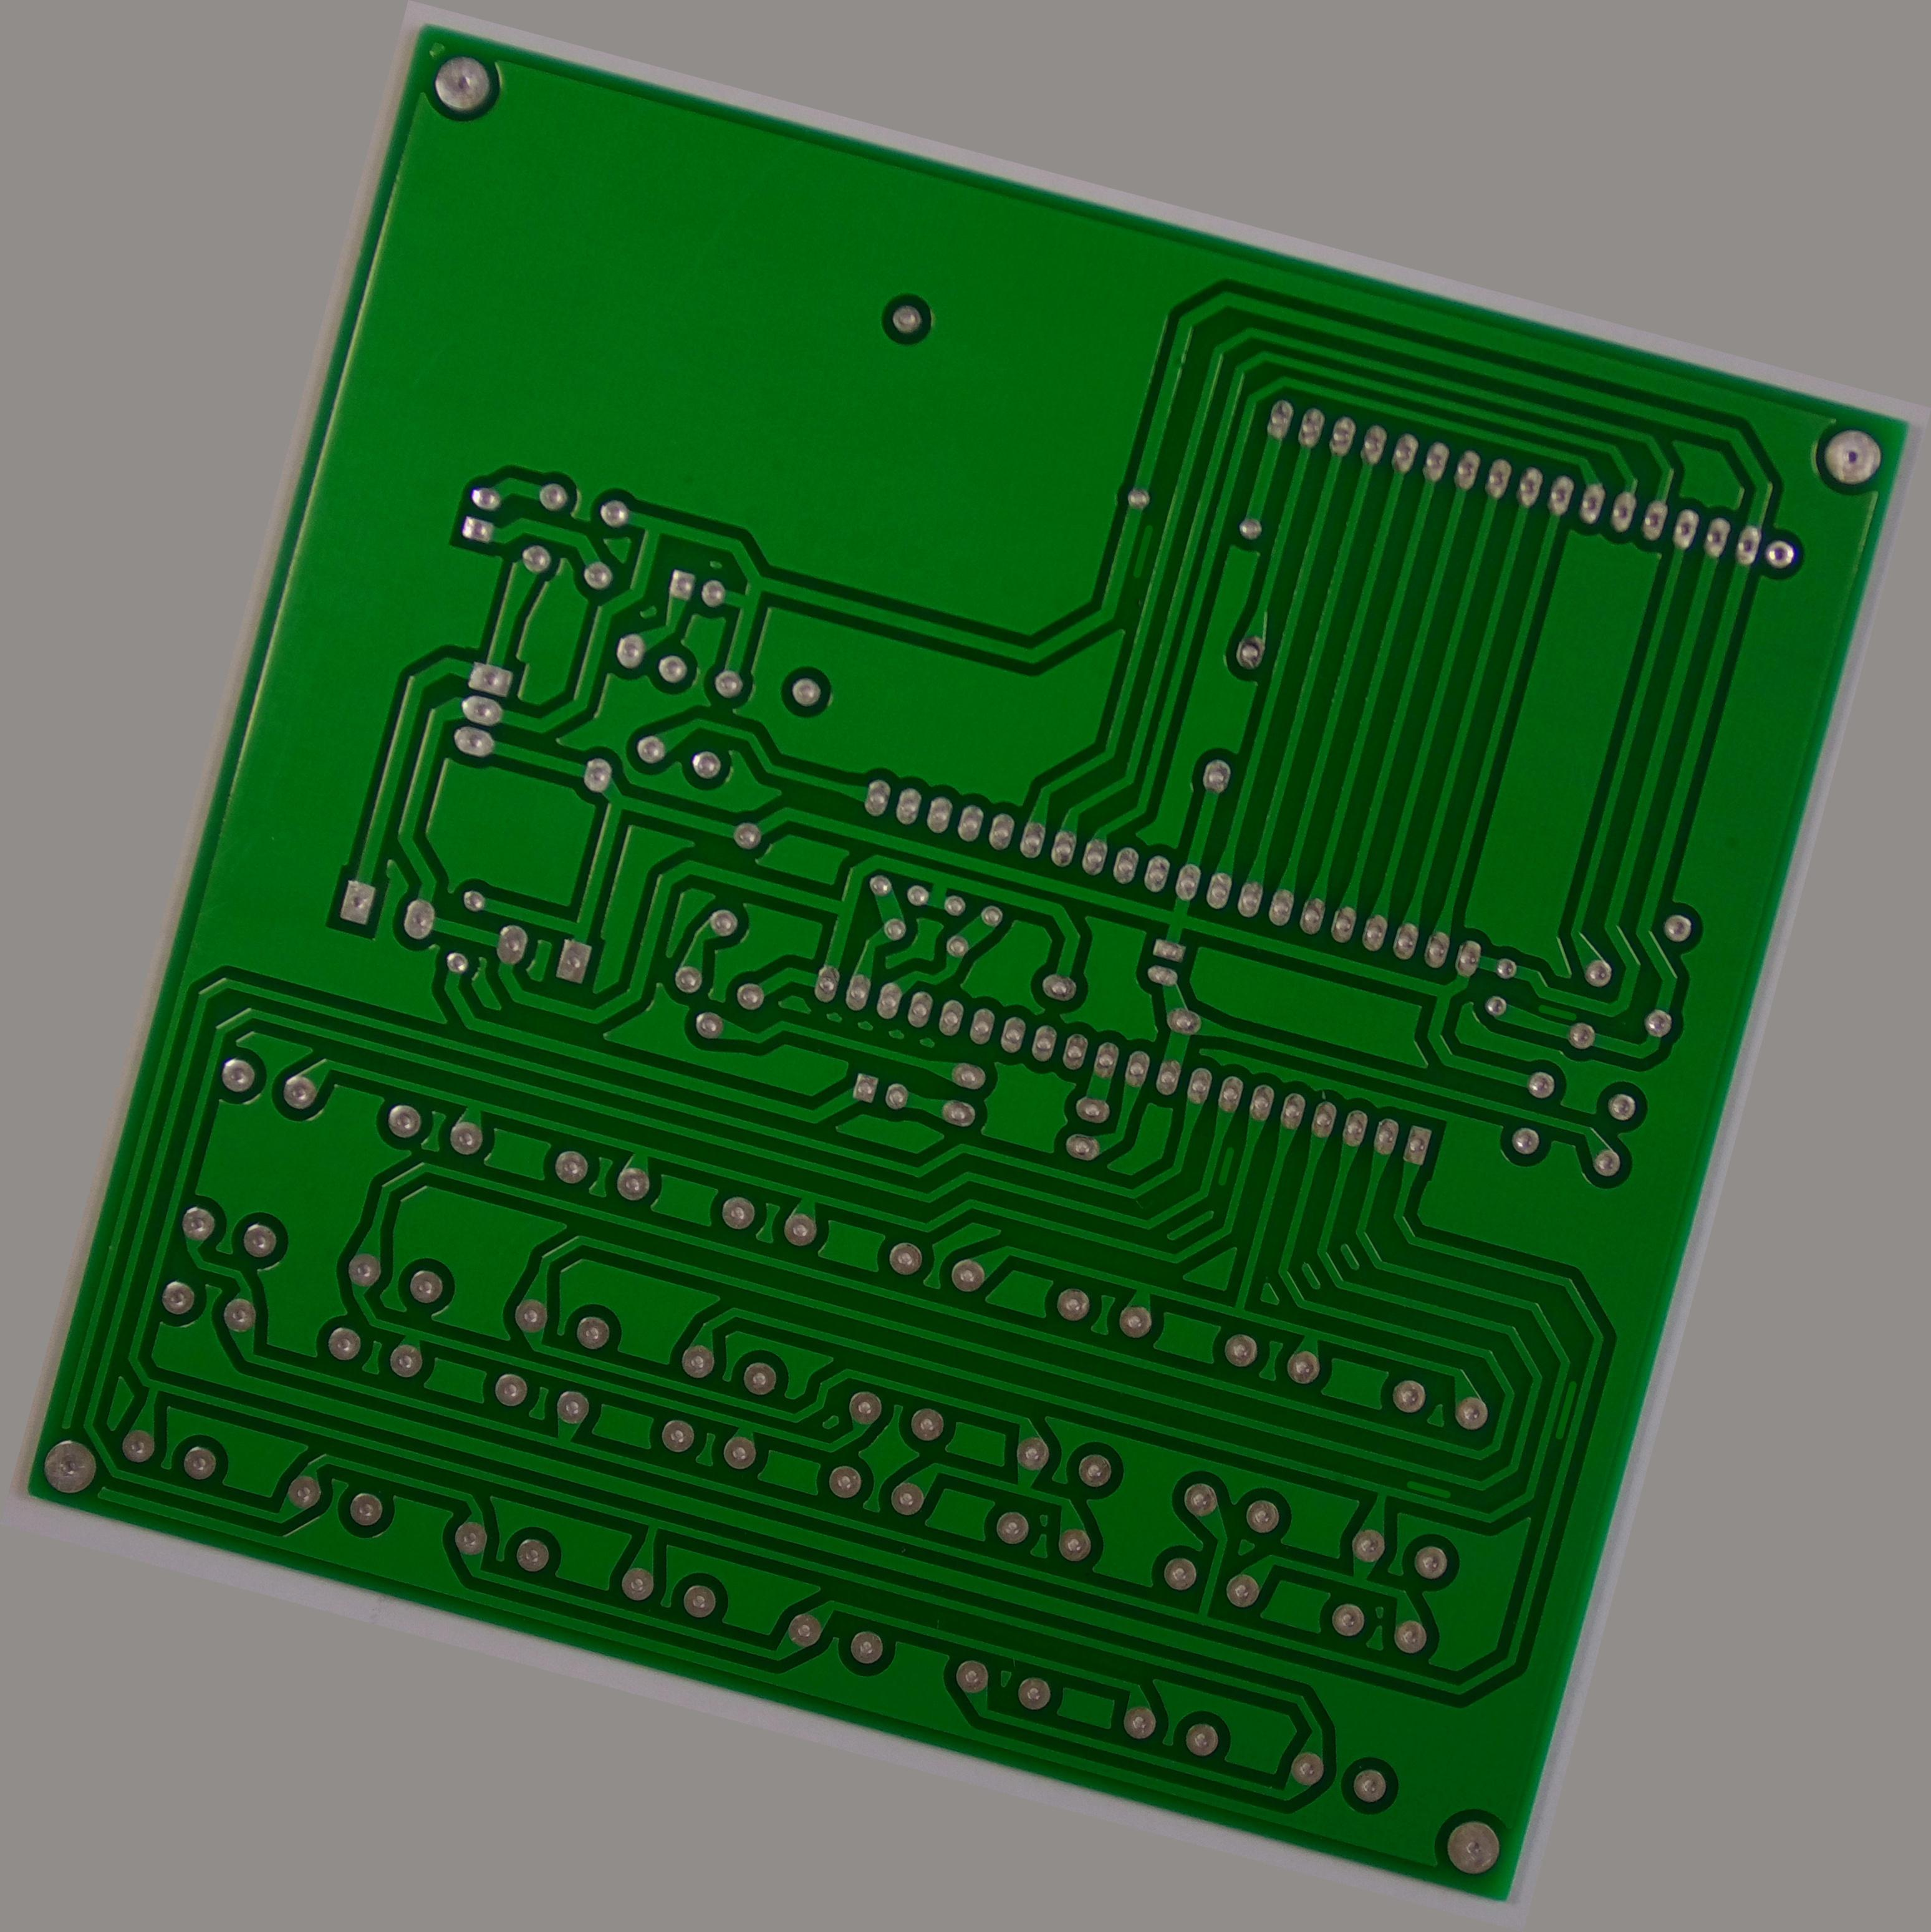spurious_copper: (1535, 1366, 1590, 1453), (1116, 513, 1171, 586), (1392, 1463, 1464, 1511), (1523, 987, 1590, 1037), (1202, 1131, 1252, 1196)
